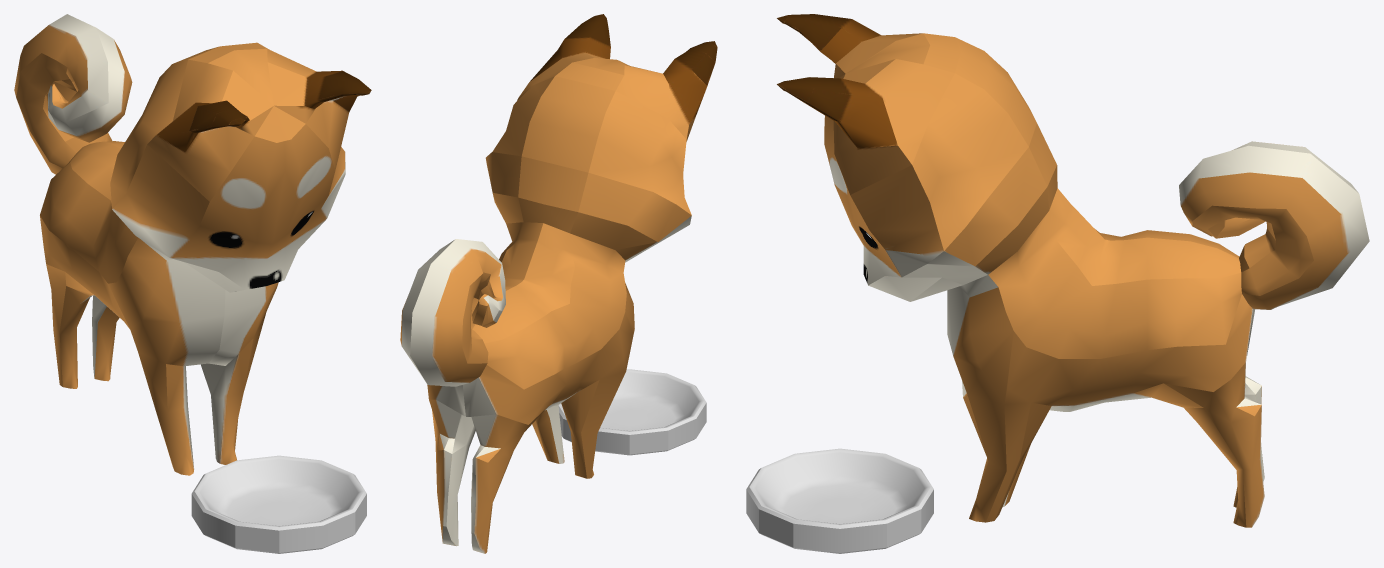
Rendered from emptyBowl_frame3.obj.
3 renders of one model, left to right at view 1: azimuth 30°, elevation 25°; view 2: azimuth 150°, elevation 25°; view 3: azimuth 270°, elevation 25°, orthographic. The views are drawn at different scales.
Visible parts, largest first — view 1: newRigging1:BodzL1, FressnapfLeer:pCylinder1; view 2: newRigging1:BodzL1, FressnapfLeer:pCylinder1; view 3: newRigging1:BodzL1, FressnapfLeer:pCylinder1.
Part boxes in pixels (x1,y1,x2,y2): newRigging1:BodzL1: (14, 14, 371, 475); FressnapfLeer:pCylinder1: (191, 455, 366, 553); newRigging1:BodzL1: (400, 14, 717, 553); FressnapfLeer:pCylinder1: (558, 369, 706, 455); newRigging1:BodzL1: (777, 14, 1369, 527); FressnapfLeer:pCylinder1: (746, 448, 933, 553).
Size of the model in its own units: 3.91 by 7.03 by 8.45.
Materials: 2 (2 with a texture image).
